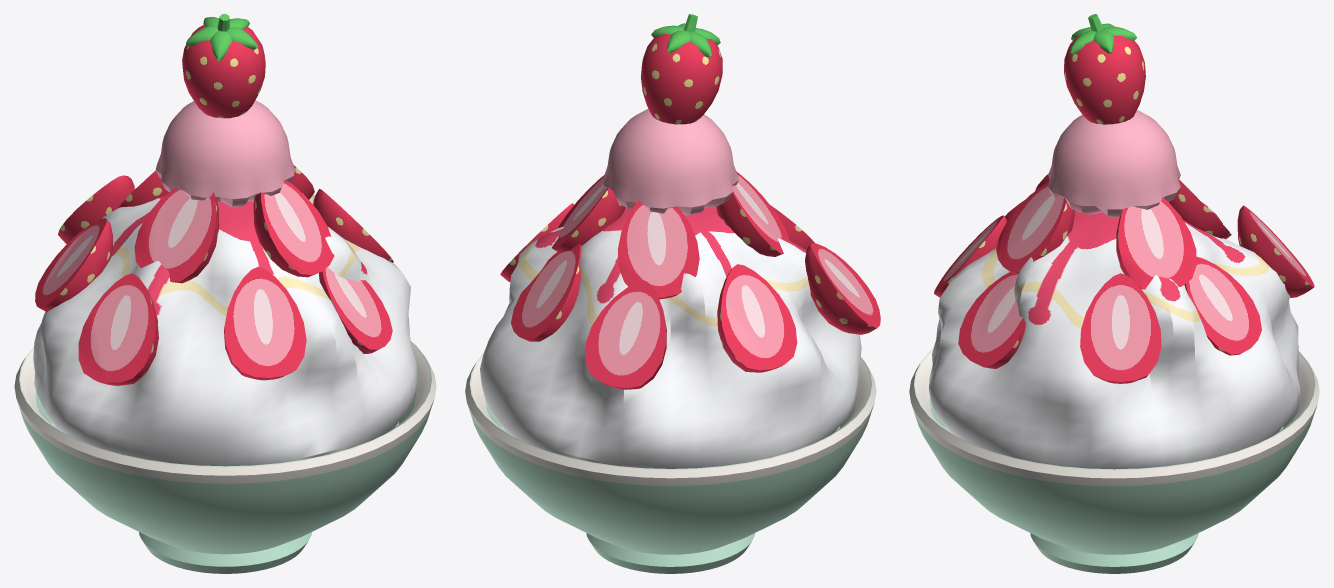
File: StrawberryBingsu.glb
3 renders of one model, left to right at view 1: azimuth 30°, elevation 25°; view 2: azimuth 150°, elevation 25°; view 3: azimuth 270°, elevation 25°, orthographic. The views are drawn at different scales.
Parts seen in each view (by area): view 1: StrawberryBingsu; view 2: StrawberryBingsu; view 3: StrawberryBingsu.
Boxes of the visible parts, bbox=[...] form: StrawberryBingsu: bbox=[14, 14, 436, 573]; StrawberryBingsu: bbox=[465, 14, 880, 573]; StrawberryBingsu: bbox=[909, 14, 1319, 573].
Size of the model in its own units: 1.36 by 1.9 by 1.36.
Materials: 6 (6 with a texture image).
